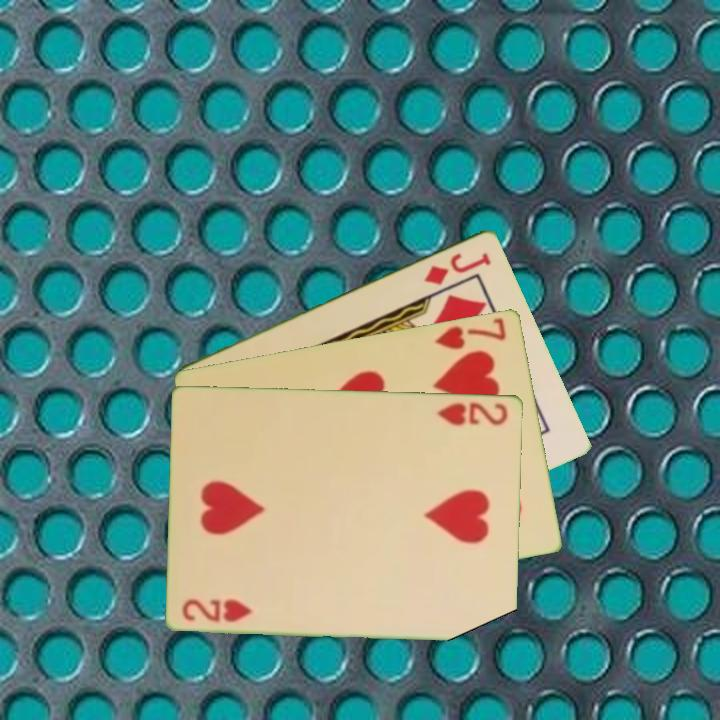2h: (434, 398, 512, 428), (179, 595, 255, 625)
7h: (431, 313, 509, 352)
Jd: (421, 248, 495, 288)
